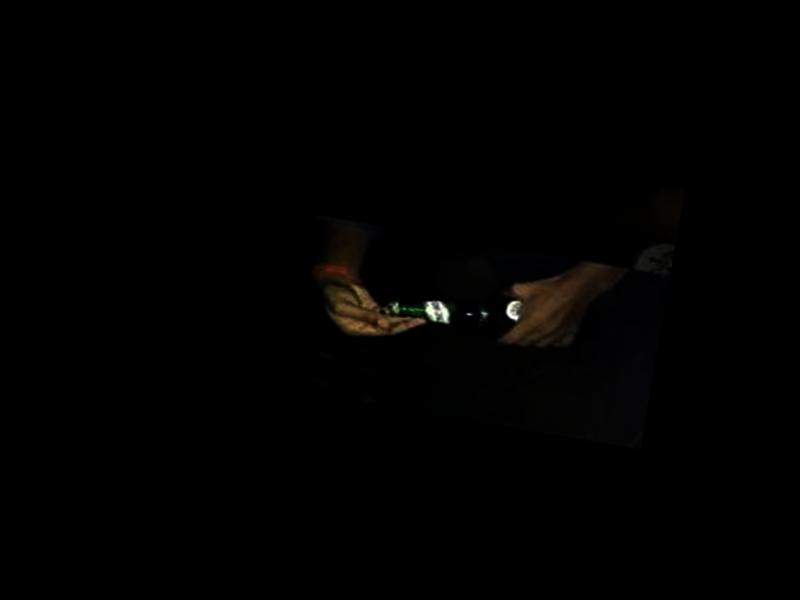Beer: (386, 268, 602, 355)
